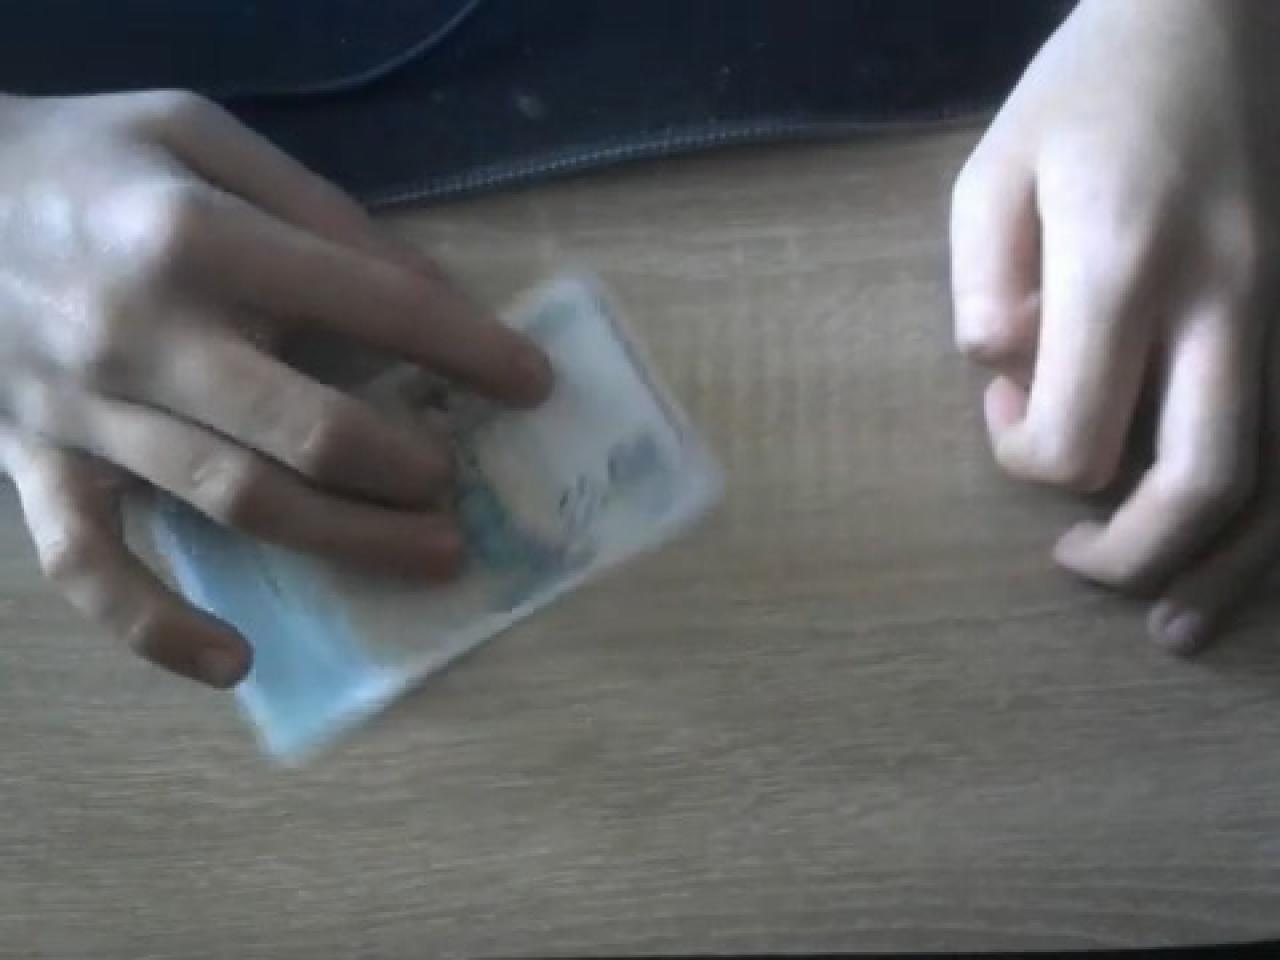20leva: (115, 269, 728, 768)
